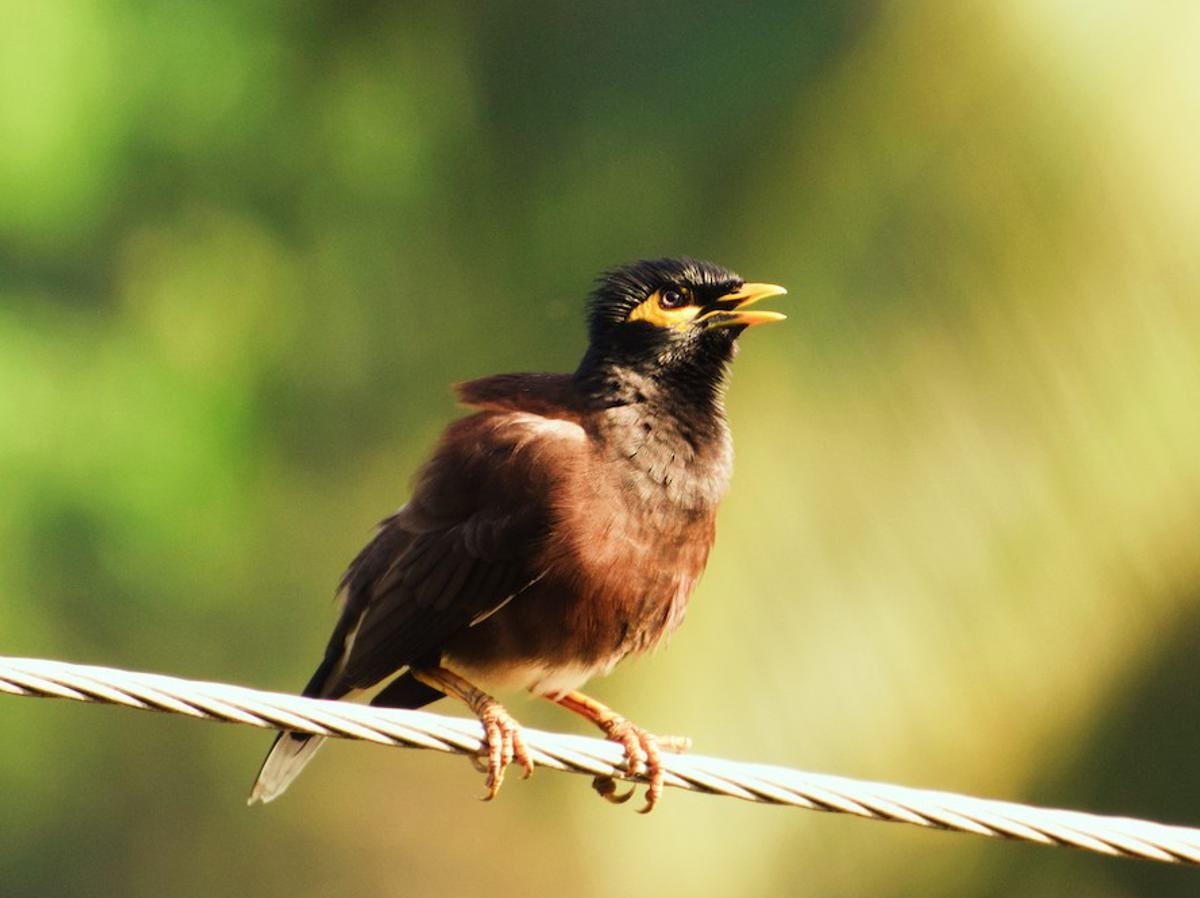myna: (301, 226, 828, 787)
